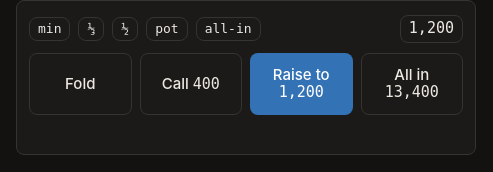
it: the action bar › prints no amount on the button while the entry is refused, and never a different one
Replace the text in the field named "the total" with "500" at point(431, 29), box [400,15,463,43]
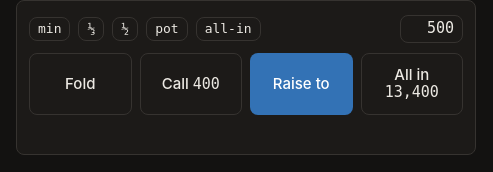
Check: the button "Raise to" is shown, box [250,53,352,114]
Replace the text in the field named "the total" with "20000" at point(431, 29), box [400,15,463,43]
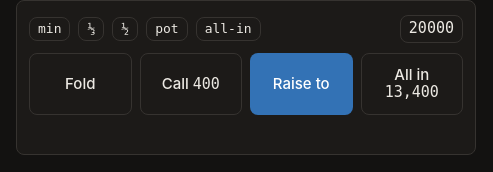
Check: the button "Raise to" is shown, box [250,53,352,114]
A legal entry again: the button prints this proposal, and only this one.
Replace the text in the field named "the total" with "3,000" at point(431, 29), box [400,15,463,43]
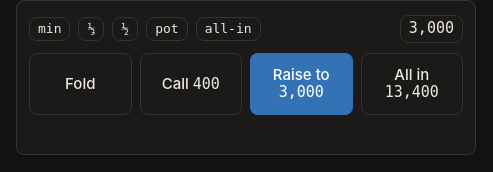
Check: the button "Raise to 3,000" is shown, box [250,53,352,114]
